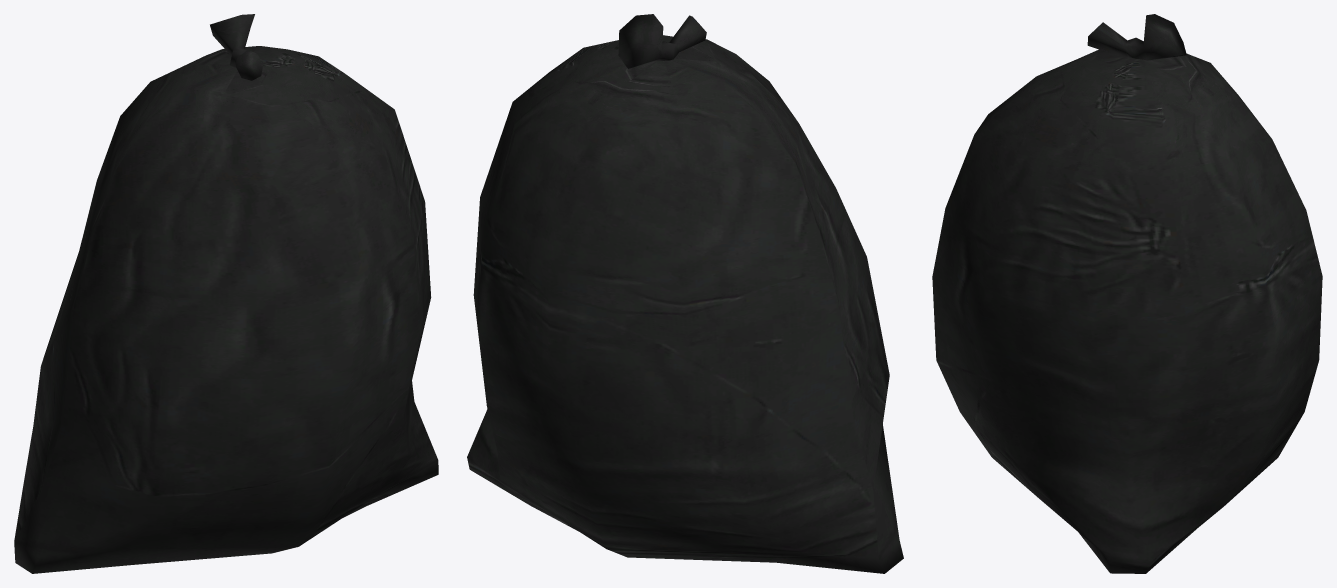
Rendered from trash bag.fbx.
3 renders of one model, left to right at view 1: azimuth 30°, elevation 25°; view 2: azimuth 150°, elevation 25°; view 3: azimuth 270°, elevation 25°, orthographic. The views are drawn at different scales.
Parts seen in each view (by area): view 1: binbag_reference.smd; view 2: binbag_reference.smd; view 3: binbag_reference.smd.
Part boxes in pixels (<box>): binbag_reference.smd: <box>14,14,438,573</box>; binbag_reference.smd: <box>467,14,903,573</box>; binbag_reference.smd: <box>932,14,1322,573</box>.
Bounding box in the file's own units: 55.59 × 65.31 × 47.74.
Materials: 1 (1 with a texture image).
